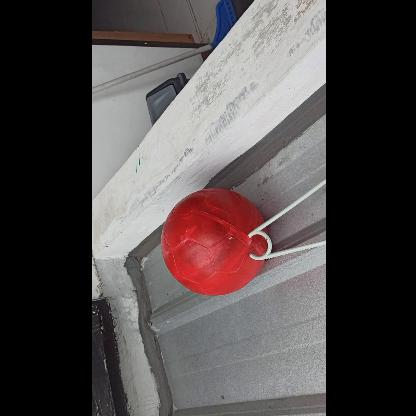red_ball: (160, 188, 268, 296)
